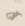microplastic: (5, 8, 22, 23)
